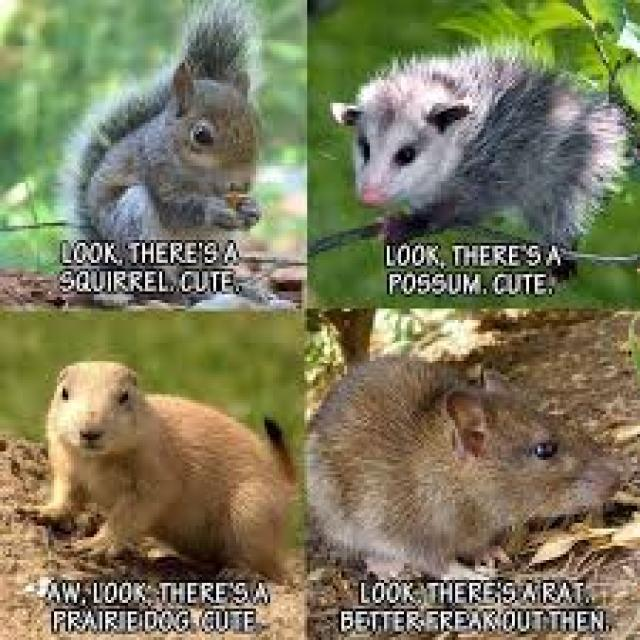rat: (302, 348, 632, 583), (327, 40, 637, 280), (51, 0, 265, 306), (17, 357, 296, 583)
